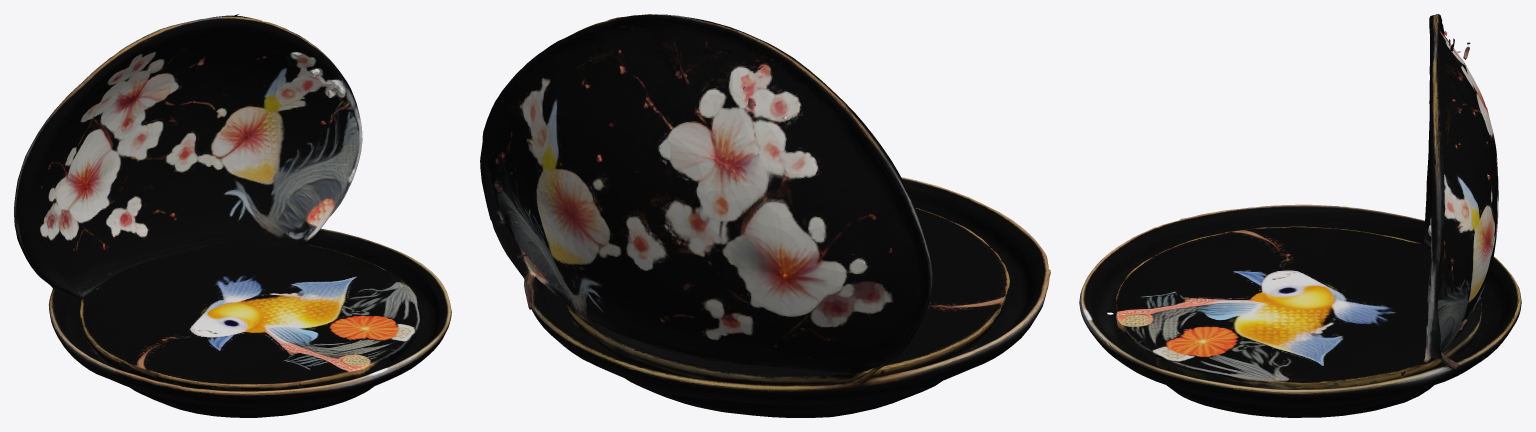
File: ceramic-jewelry-stand-japanese.jpeg.glb
3 views of the same model, side by side, from view 1: azimuth 30°, elevation 25°; view 2: azimuth 150°, elevation 25°; view 3: azimuth 270°, elevation 25° (orthographic). The views are drawn at different scales.
Visible parts, largest first — view 1: world; view 2: world; view 3: world.
Boxes of the visible parts, x1,y1,x2,y2 form: world: (14,14,451,417); world: (480,14,1050,417); world: (1079,14,1521,417).
Size of the model in its own units: 1 by 0.7963 by 1.
Materials: 1 (1 with a texture image).
